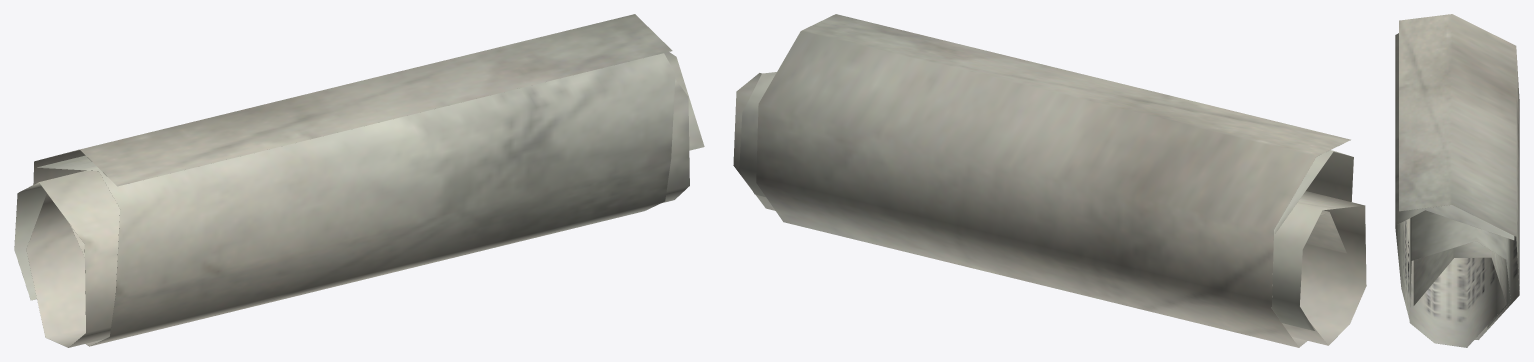
The model's file is Paper_M.obj.
The picture shows the model from 3 angles, left to right: view 1: azimuth 30°, elevation 25°; view 2: azimuth 150°, elevation 25°; view 3: azimuth 270°, elevation 25°; orthographic projection. The views are drawn at different scales.
Parts seen in each view (by area): view 1: Paper_M; view 2: Paper_M; view 3: Paper_M.
Part boxes in pixels (x1,y1,x2,y2): Paper_M: (14, 14, 704, 347); Paper_M: (733, 14, 1366, 347); Paper_M: (1395, 14, 1519, 347).
Size of the model in its own units: 13.84 by 4.09 by 3.41.
